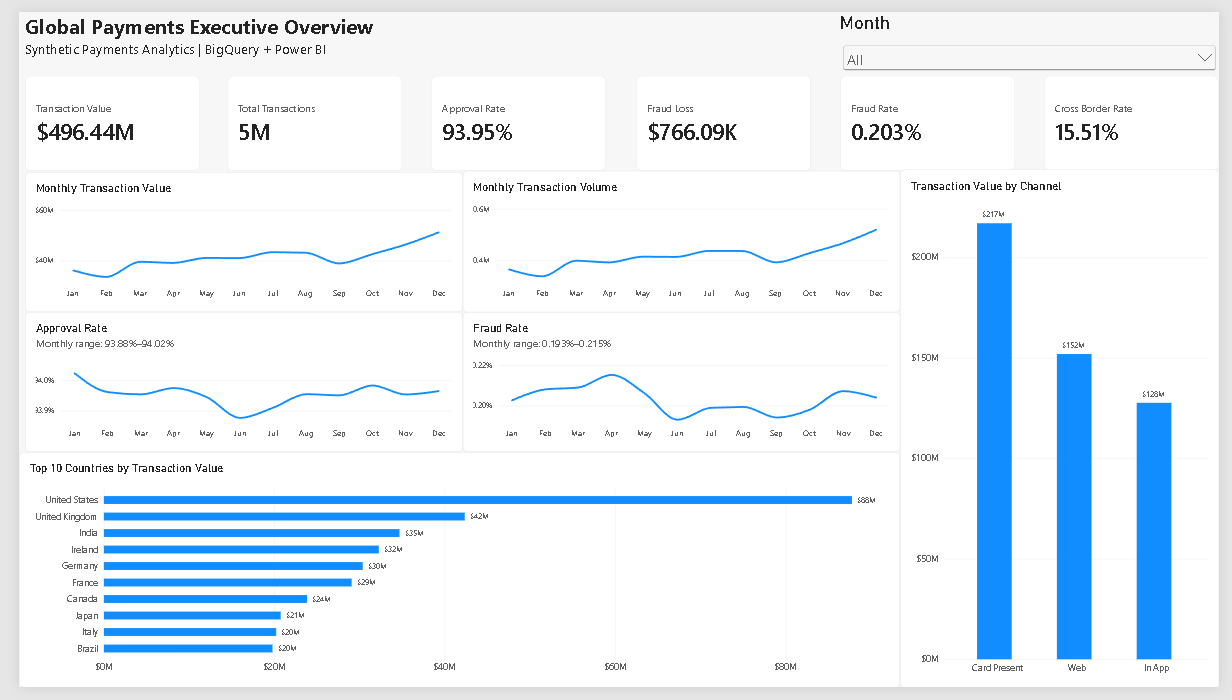

Layout of this report page (visuals, bound fields, positions):
{"tool":"powerbi","page":{"name":"Page 1","canvas":[1920,1080],"ordinal":0},"visuals":[{"type":"cardVisual","fields":{"Data":["KPI_Measures.Transaction Value"]},"box":[9.2,101.2,279.8,152.8],"z":0},{"type":"cardVisual","fields":{"Data":["KPI_Measures.Total Transactions"]},"box":[335,101.2,279.8,152.8],"z":1000},{"type":"cardVisual","fields":{"Data":["KPI_Measures.Approval Rate"]},"box":[660.7,101.2,279.8,152.8],"z":2000},{"type":"cardVisual","fields":{"Data":["KPI_Measures.Fraud Rate"]},"box":[1314.1,101.2,279.8,152.8],"z":3000},{"type":"cardVisual","fields":{"Data":["KPI_Measures.Fraud Loss"]},"box":[988.3,101.2,279.8,152.8],"z":4000},{"type":"cardVisual","fields":{"Data":["KPI_Measures.Cross Border Rate"]},"box":[1639.9,101.2,279.8,152.8],"z":5000},{"type":"lineChart","title":"Monthly Transaction Value","fields":{"Category":["dim_date.month_name"],"Y":["KPI_Measures.Transaction Value"]},"box":[9.4,255.6,699.8,224.4],"z":6000},{"type":"lineChart","title":"Monthly Transaction Volume","fields":{"Category":["dim_date.month_name"],"Y":["KPI_Measures.Total Transactions"]},"box":[709.2,253.6,699.8,226.4],"z":7000},{"type":"lineChart","title":"Approval Rate ","fields":{"Category":["dim_date.month_name"],"Y":["KPI_Measures.Approval Rate"]},"box":[9.4,480,699.8,224.4],"z":8000},{"type":"lineChart","title":"Fraud Rate ","fields":{"Category":["dim_date.month_name"],"Y":["KPI_Measures.Fraud Rate"]},"box":[709.2,480,699.8,224.4],"z":9000},{"type":"clusteredColumnChart","title":"Transaction Value by Channel","fields":{"Category":["vw_payment_performance_daily.Channel Display"],"Y":["KPI_Measures.Transaction Value"]},"box":[1410,251.1,510.5,829.5],"z":10000},{"type":"clusteredBarChart","title":"Top 10 Countries by Transaction Value","fields":{"Category":["vw_payment_performance_daily.country_name"],"Y":["KPI_Measures.Transaction Value"]},"box":[0,703.9,1410,376.7],"z":11000},{"type":"slicer","title":"Month","fields":{"Values":["dim_date.month_name"]},"box":[1314,0,606,102],"z":12000},{"type":"textbox","box":[9.2,0,1214.7,101.2],"z":13000}]}

Visuals, with their boxes in screenshot pixels (x1, y1, x2, y2), scaled from the page's 1920x1080 canvas onto the 1232x700 screenshot:
cardVisual - KPI_Measures.Transaction Value: crop(6, 66, 185, 165)
cardVisual - KPI_Measures.Total Transactions: crop(215, 66, 394, 165)
cardVisual - KPI_Measures.Approval Rate: crop(424, 66, 603, 165)
cardVisual - KPI_Measures.Fraud Rate: crop(843, 66, 1023, 165)
cardVisual - KPI_Measures.Fraud Loss: crop(634, 66, 814, 165)
cardVisual - KPI_Measures.Cross Border Rate: crop(1052, 66, 1231, 165)
"Monthly Transaction Value" lineChart: crop(6, 166, 455, 311)
"Monthly Transaction Volume" lineChart: crop(455, 164, 904, 311)
"Approval Rate " lineChart: crop(6, 311, 455, 457)
"Fraud Rate " lineChart: crop(455, 311, 904, 457)
"Transaction Value by Channel" clusteredColumnChart: crop(905, 163, 1231, 699)
"Top 10 Countries by Transaction Value" clusteredBarChart: crop(0, 456, 905, 699)
"Month" slicer: crop(843, 0, 1231, 66)
textbox: crop(6, 0, 785, 66)
